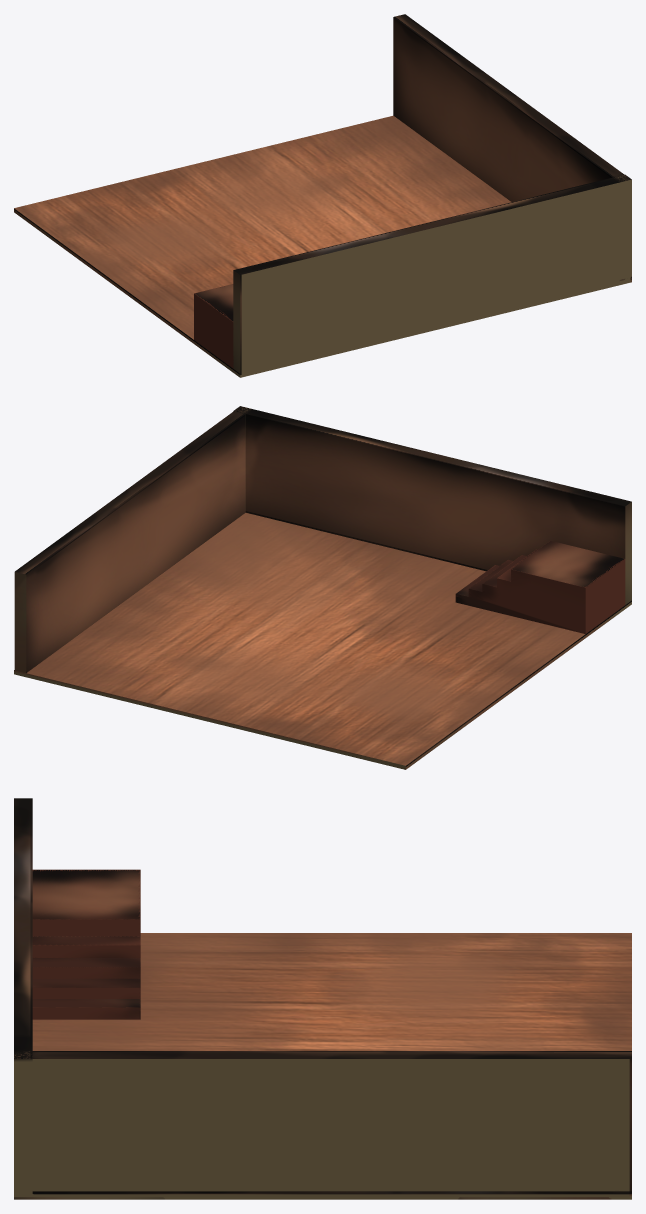
The model's file is porao.fbx.
3 views of the same model, one above another, from view 1: azimuth 30°, elevation 25°; view 2: azimuth 150°, elevation 25°; view 3: azimuth 270°, elevation 25° (orthographic). The views are drawn at different scales.
Parts seen in each view (by area): view 1: ChaoParede, Cube; view 2: ChaoParede, Cube; view 3: ChaoParede, Cube.
Part boxes in pixels (left/top/right/bottom): ChaoParede: left=14, top=14, right=631, bottom=377; Cube: left=194, top=284, right=233, bottom=368; ChaoParede: left=14, top=406, right=631, bottom=769; Cube: left=455, top=540, right=625, bottom=633; ChaoParede: left=14, top=798, right=631, bottom=1199; Cube: left=32, top=869, right=140, bottom=1019.
Bounding box in the file's own units: 15 × 3.76 × 15.
Materials: 2 (2 with a texture image).
